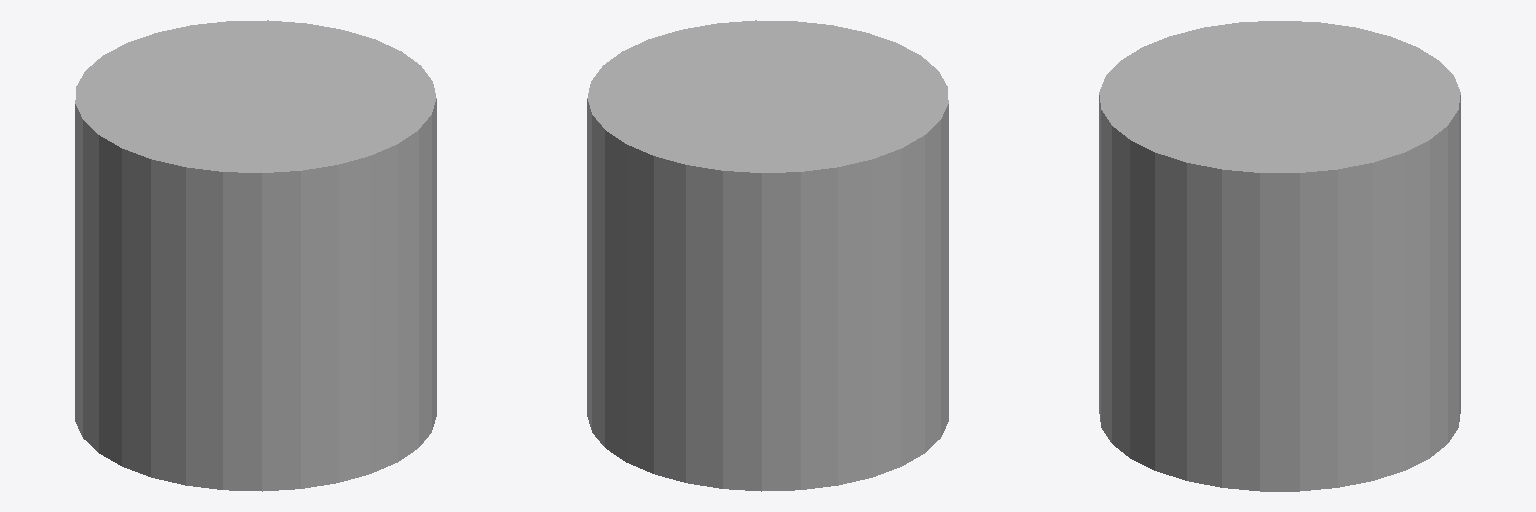
URDF robot description (root):
<?xml version='1.0' encoding='utf-8'?>
<robot name="root">
  <link name="link_001">
    <visual>
      <origin xyz="0 0 0" rpy="0 0 0" />
      <geometry>
        <mesh filename="36c1e34048f29cbb903ca9ec69de0117ede4c1bf4d7eaf9a6ac2e6f231d2ca83_scale_7153.stl" scale="1.0000E+00 1.0000E+00 1.0000E+00" />
      </geometry>
      <material name="">
        <color rgba="7.50E-01 7.50E-01 7.50E-01 1" />
      </material>
    </visual>
    <collision>
      <origin xyz="0 0 0" rpy="0 0 0" />
      <geometry>
        <mesh filename="36c1e34048f29cbb903ca9ec69de0117ede4c1bf4d7eaf9a6ac2e6f231d2ca83_scale_7153.stl" scale="1.0000E+00 1.0000E+00 1.0000E+00" />
      </geometry>
    </collision>
  </link>
</robot>

--- What the picture shows (computed from the rendered views, not written in the file) ---
3 views of the same robot in one strip: view 1: azimuth 30°, elevation 25°; view 2: azimuth 150°, elevation 25°; view 3: azimuth 270°, elevation 25° (orthographic).
Model root with 1 links and 0 joints (none), rooted at link_001, posed all joints at 0.
Visible links, largest first — view 1: link_001; view 2: link_001; view 3: link_001.
Link boxes in pixels (x1,y1,x2,y2): link_001: (75,20,436,491); link_001: (587,20,948,491); link_001: (1099,21,1460,491).
Size in the robot's own frame: 0.0999 by 0.1 by 0.0971 metres.
Meshes: 1 distinct files referenced, 1 mesh visuals loaded (1 binary STL).
